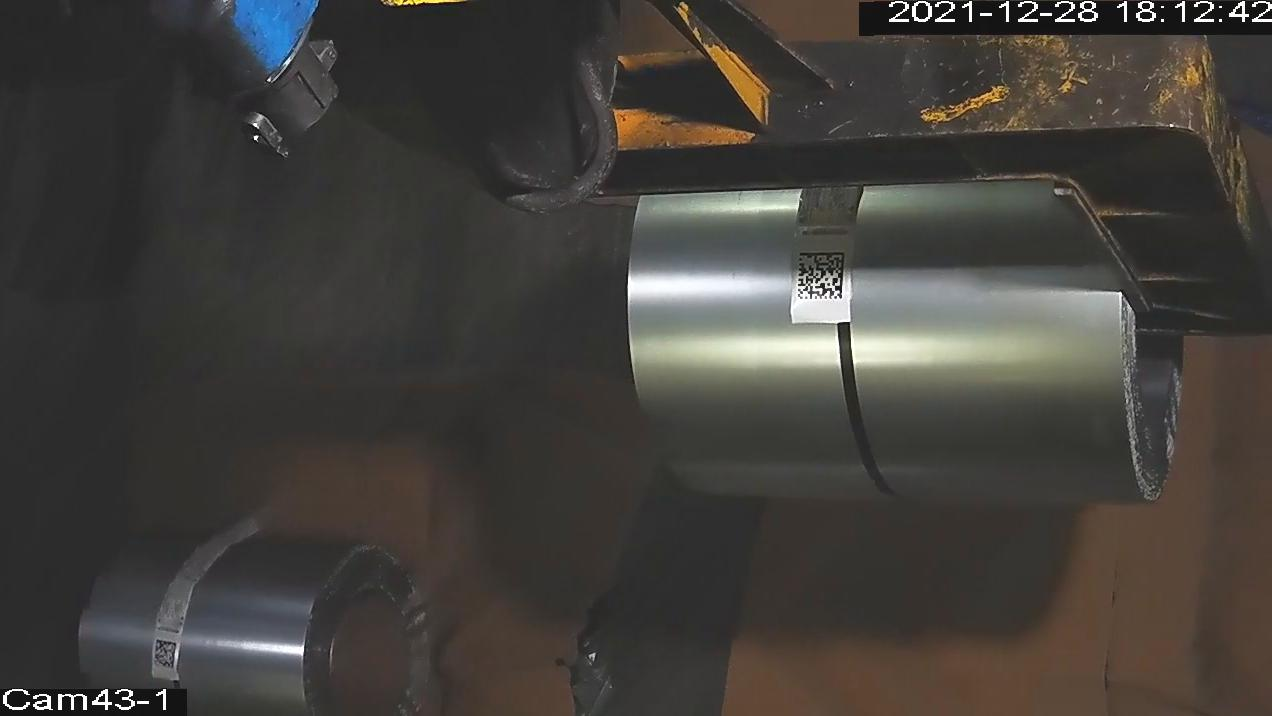data matrix: (795, 251, 848, 304), (152, 638, 179, 671)
